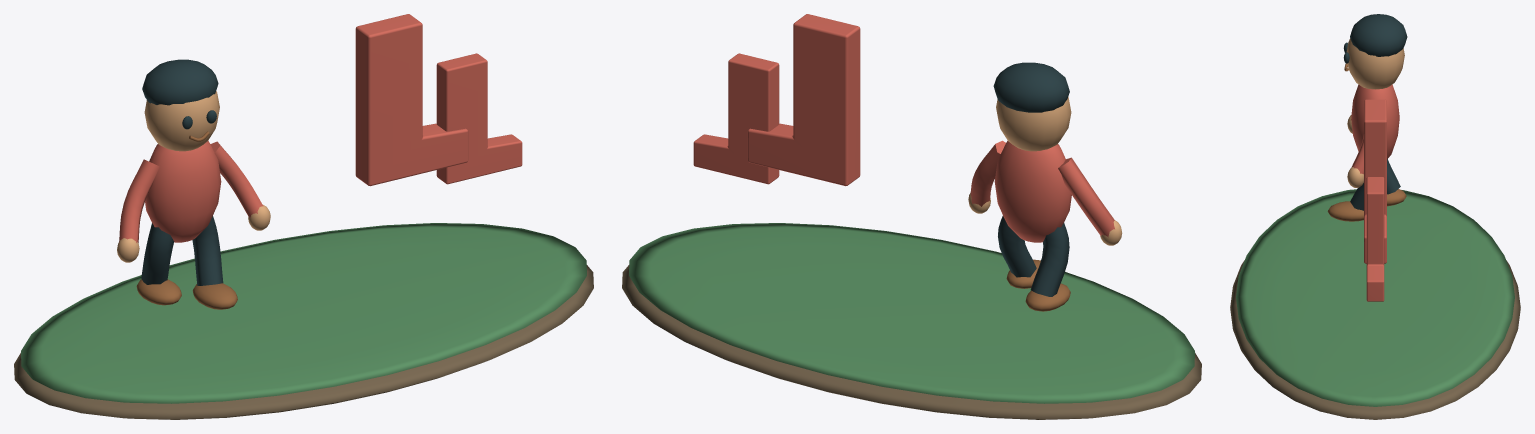
The model's file is child-socks.glb.
3 views of the same model, side by side, from view 1: azimuth 30°, elevation 25°; view 2: azimuth 150°, elevation 25°; view 3: azimuth 270°, elevation 25° (orthographic). The views are drawn at different scales.
Visible parts, largest first — view 1: child-socks_surface_01, child-socks_surface_02, child-socks_surface_00, child-socks_surface_04, child-socks_surface_03, child-socks_surface_05; view 2: child-socks_surface_01, child-socks_surface_02, child-socks_surface_00, child-socks_surface_04, child-socks_surface_03, child-socks_surface_05; view 3: child-socks_surface_01, child-socks_surface_02, child-socks_surface_00, child-socks_surface_04, child-socks_surface_03, child-socks_surface_05.
Part boxes in pixels (x1,y1,x2,y2): child-socks_surface_01: [21, 223, 586, 403]; child-socks_surface_02: [119, 14, 522, 242]; child-socks_surface_00: [14, 265, 593, 419]; child-socks_surface_04: [141, 59, 223, 285]; child-socks_surface_03: [117, 91, 270, 262]; child-socks_surface_05: [136, 131, 237, 309]; child-socks_surface_01: [629, 223, 1194, 403]; child-socks_surface_02: [693, 14, 1114, 242]; child-socks_surface_00: [622, 265, 1201, 419]; child-socks_surface_04: [993, 62, 1069, 296]; child-socks_surface_03: [968, 97, 1122, 245]; child-socks_surface_05: [1006, 259, 1070, 311]; child-socks_surface_01: [1236, 189, 1514, 406]; child-socks_surface_02: [1351, 84, 1399, 301]; child-socks_surface_00: [1230, 260, 1520, 419]; child-socks_surface_04: [1343, 14, 1407, 210]; child-socks_surface_03: [1346, 38, 1404, 187]; child-socks_surface_05: [1327, 63, 1406, 221].
Size of the model in its own units: 4.56 by 2.41 by 2.5.
